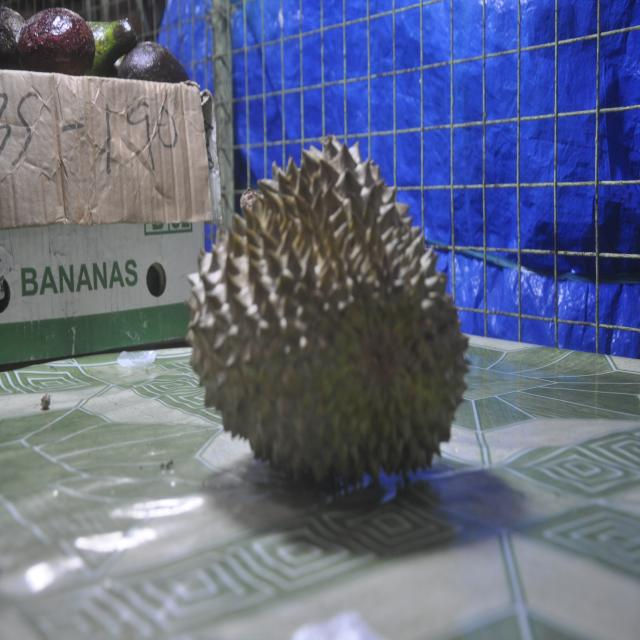mature: (167, 105, 487, 528)
